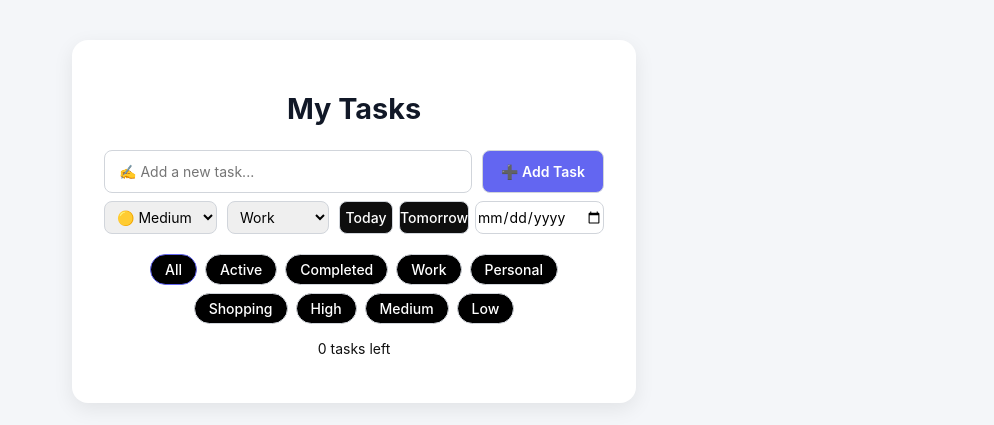
Test: Todo App › adds a new todo (UI simulation)
# Type new task and click Add
Type "Learn React" into the field with placeholder "✍️ Add a new task..." at coordinates (288, 172), box [104,150,472,193]
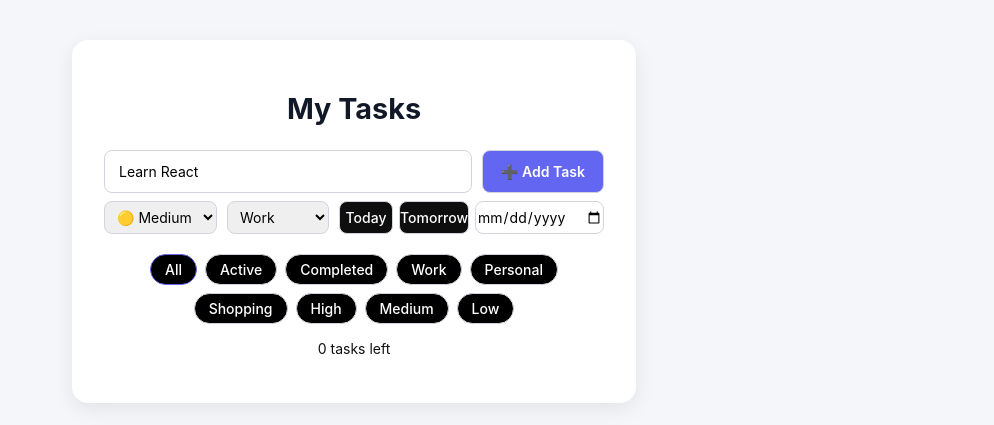
Click the button "➕ Add Task" at coordinates (543, 172), box [482,150,604,193]
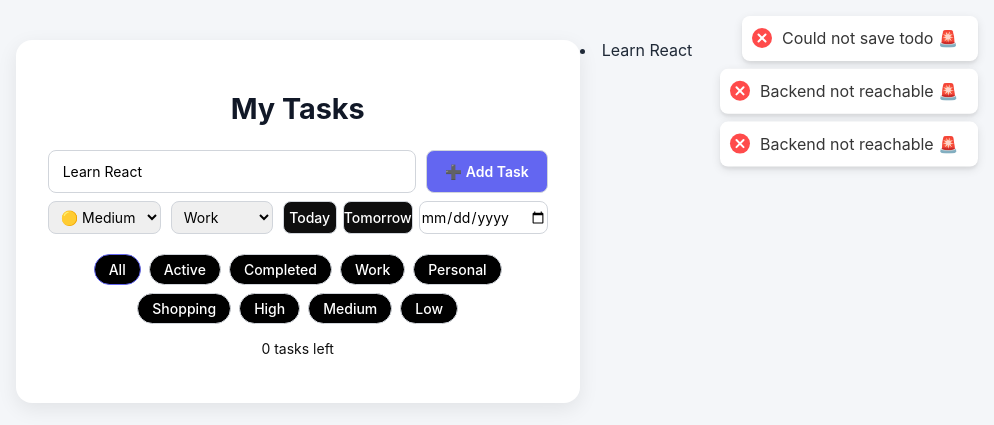
Expected: the list item "Learn React" is shown, [602,40,692,60]
